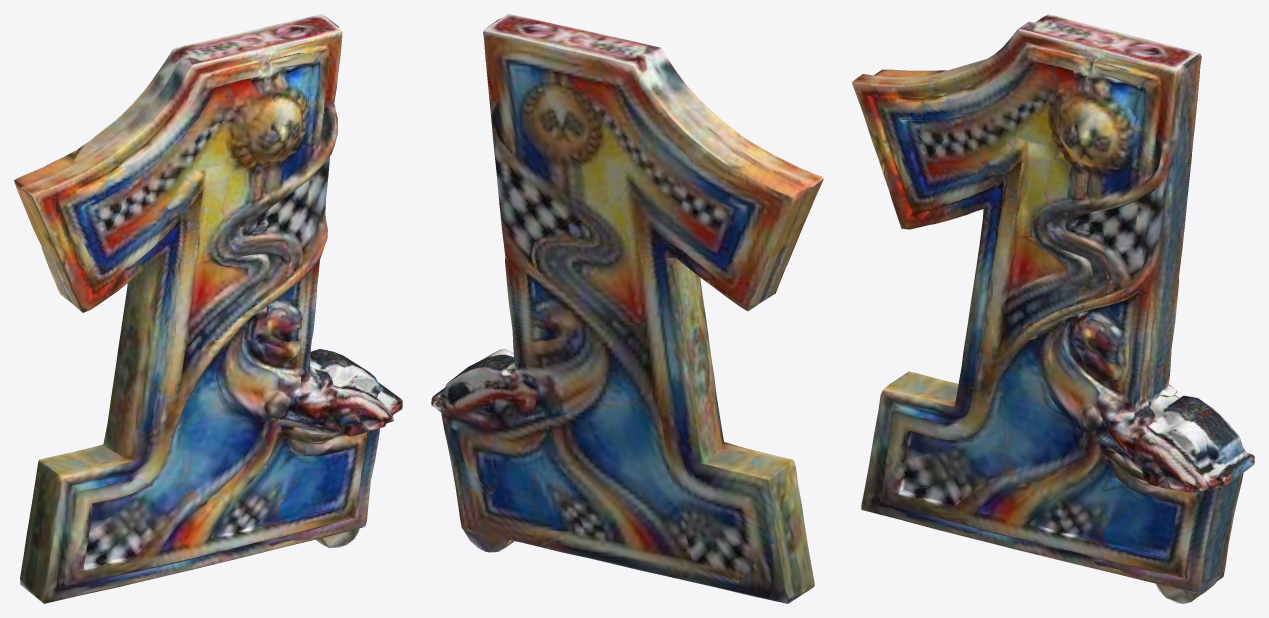
The picture shows the model from 3 angles, left to right: view 1: azimuth 30°, elevation 25°; view 2: azimuth 150°, elevation 25°; view 3: azimuth 330°, elevation 25°; orthographic projection. The views are drawn at different scales.
Size of the model in its own units: 0.4255 by 0.5791 by 0.0828.
Materials: 1 (1 with a texture image).
